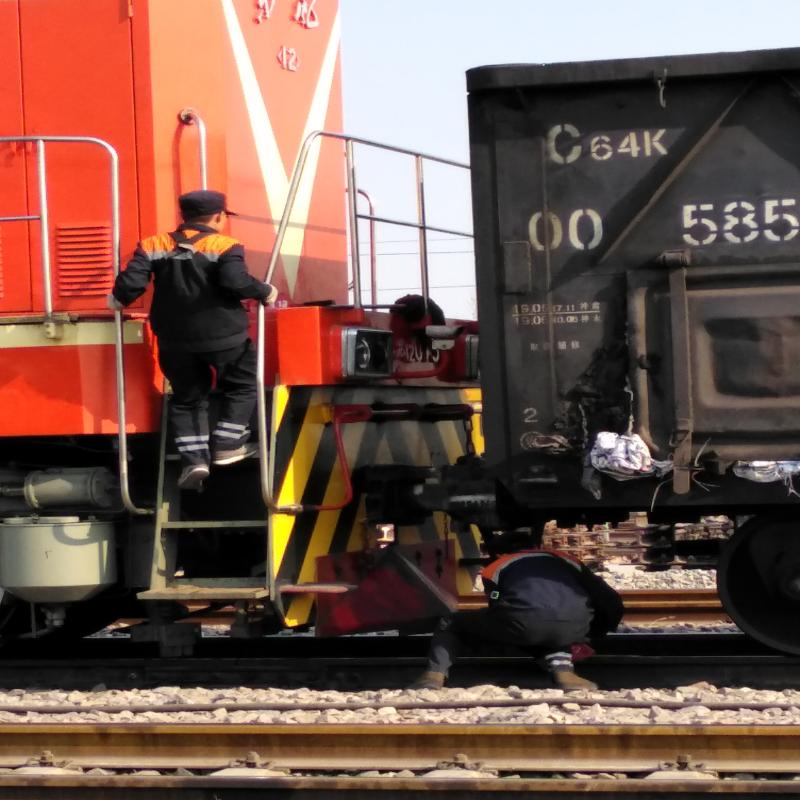train: (1, 3, 421, 646), (463, 70, 800, 637)
